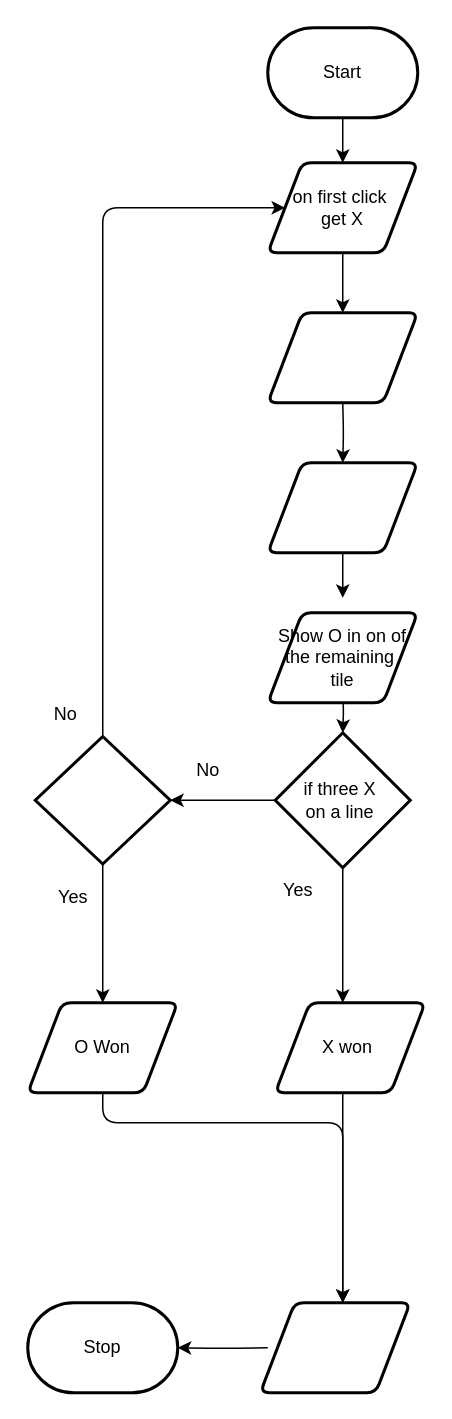
The diagram is 452 pixels wide and 1419 high, and some of its shapes have lost their labels. Here are the shapes that lost their labels. From the top down, the centre of each, then its label:
At point (342, 357): "Show X in on of the tile".
At point (342, 507): "On sceond click change to O".
At point (102, 799): "if three O on line".
At point (334, 1347): "Play agan".
